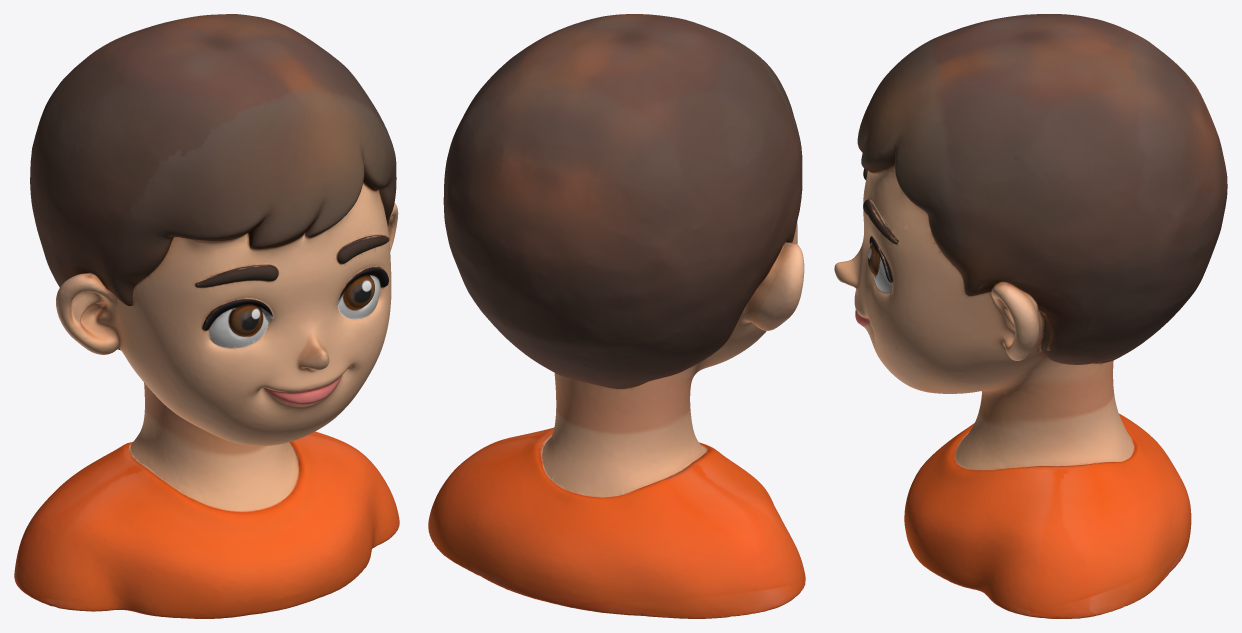
File: Meshy_AI_Friendly_Avatar_1222202417_texture.fbx
The picture shows the model from 3 angles, left to right: view 1: azimuth 30°, elevation 25°; view 2: azimuth 150°, elevation 25°; view 3: azimuth 270°, elevation 25°; orthographic projection. The views are drawn at different scales.
Parts seen in each view (by area): view 1: Mesh_0; view 2: Mesh_0; view 3: Mesh_0.
Boxes of the visible parts, x1,y1,x2,y2 form: Mesh_0: [14, 14, 399, 618]; Mesh_0: [428, 14, 805, 618]; Mesh_0: [834, 14, 1227, 618].
Bounding box in the file's own units: 139 × 190 × 136.
1 material, 1 textured.
